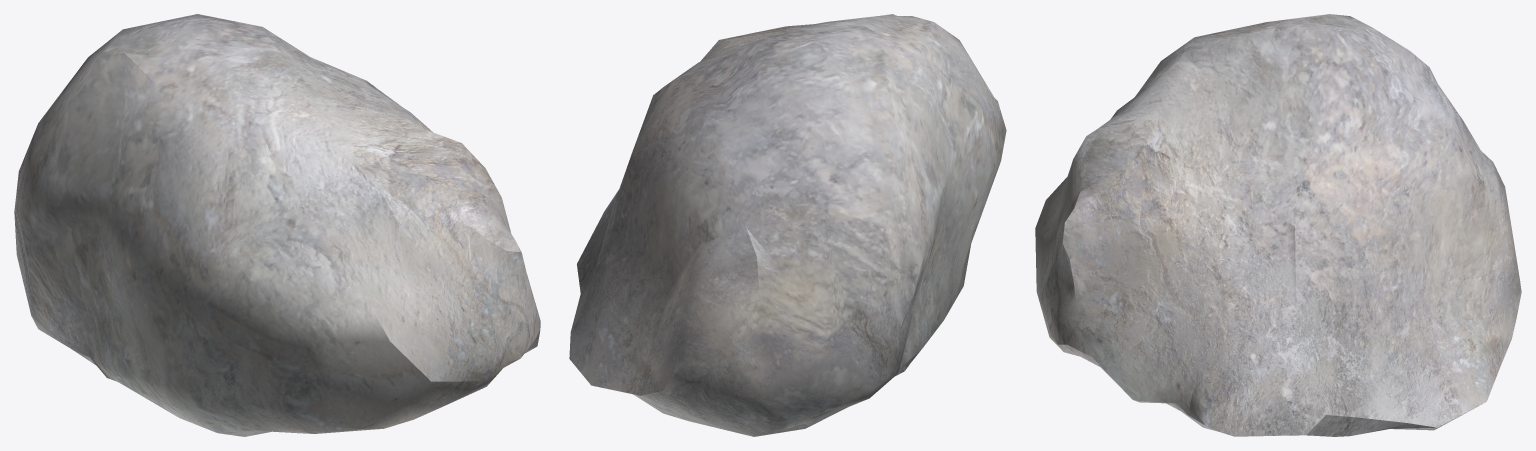
File: rock_00B_lp_2k.fbx
3 renders of one model, left to right at view 1: azimuth 30°, elevation 25°; view 2: azimuth 150°, elevation 25°; view 3: azimuth 270°, elevation 25°, orthographic. The views are drawn at different scales.
Parts seen in each view (by area): view 1: rock_00B_lp_2k; view 2: rock_00B_lp_2k; view 3: rock_00B_lp_2k.
Part boxes in pixels (left/top/right/bottom): rock_00B_lp_2k: left=14, top=14, right=540, bottom=436; rock_00B_lp_2k: left=569, top=14, right=1006, bottom=436; rock_00B_lp_2k: left=1035, top=14, right=1521, bottom=436.
Bounding box in the file's own units: 237 × 209 × 266.
